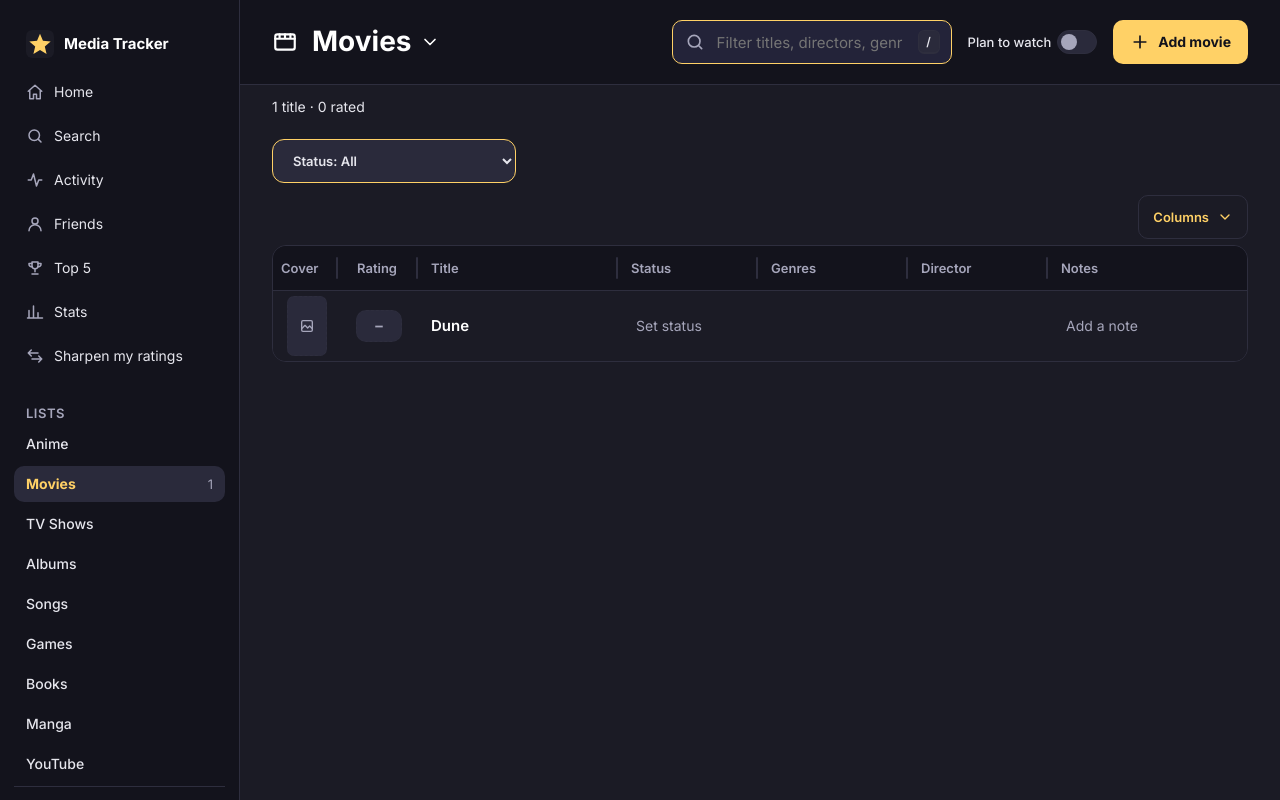
Test: cover viewer: the title's buttons › movies: Play trailer only
Hover over the row "– Dune Set status Add a note".
mouse_move(770, 326)  # box [273,290,1267,361]
(page scrolled)
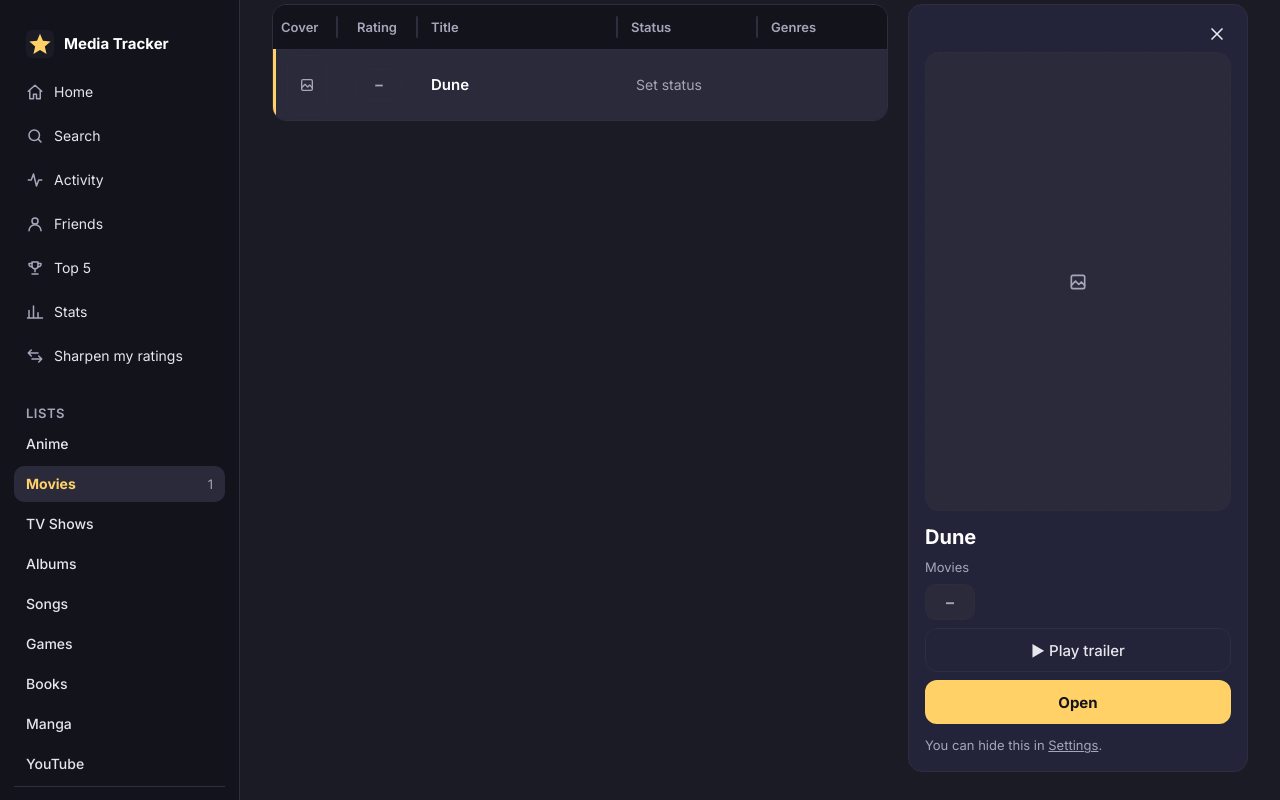
Check: the button "▶ Play trailer" is shown, box [925,628,1231,672]
